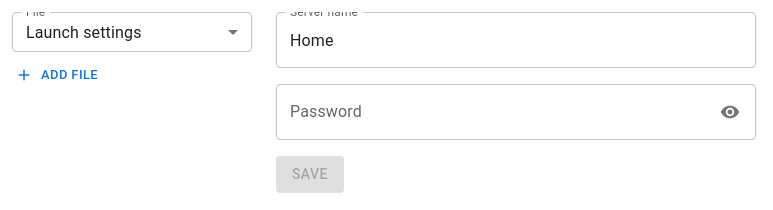
Test case: SettingsTab: source list › on a narrow screen the list is a select
Click the dropdown named "File" at (84, 32), box [26,22,142,42]
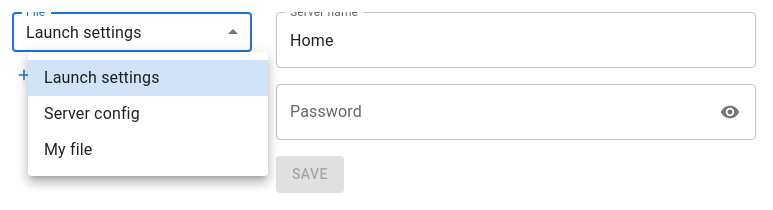
Now the option "Server config" is shown, box [44,104,140,123]
